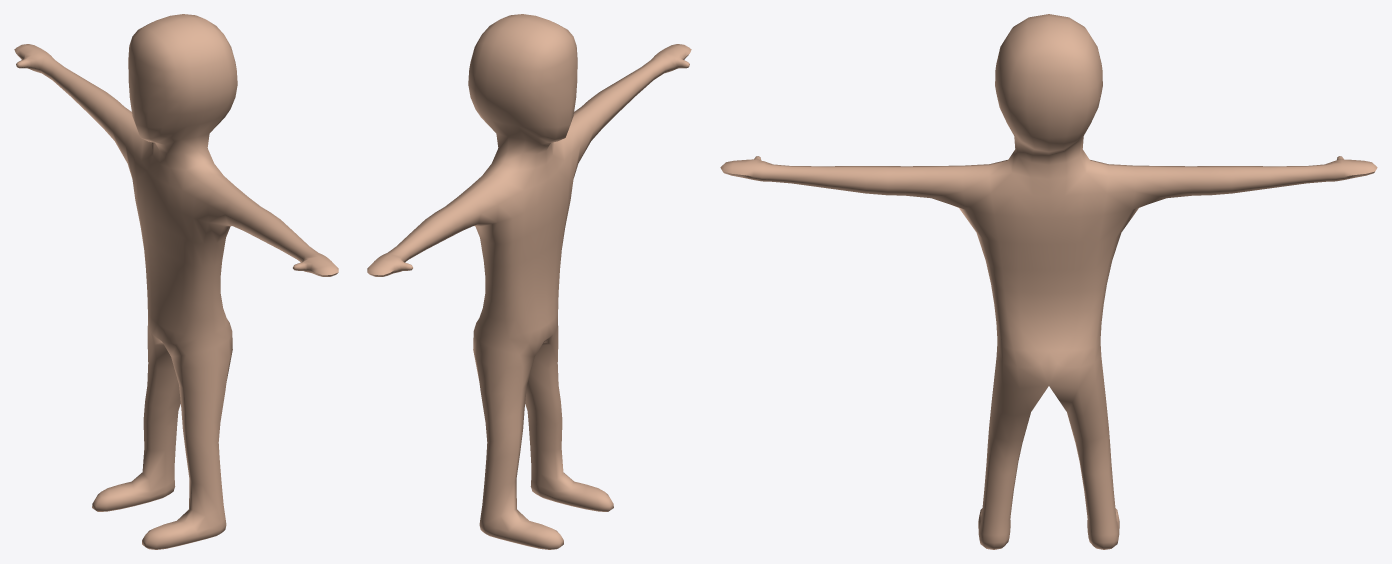
File: Character.fbx
The picture shows the model from 3 angles, left to right: view 1: azimuth 30°, elevation 25°; view 2: azimuth 150°, elevation 25°; view 3: azimuth 270°, elevation 25°; orthographic projection. The views are drawn at different scales.
Parts seen in each view (by area): view 1: Cube; view 2: Cube; view 3: Cube.
Part boxes in pixels (bbox=[...]): Cube: bbox=[14, 14, 338, 549]; Cube: bbox=[367, 14, 691, 549]; Cube: bbox=[720, 14, 1377, 549].
Bounding box in the file's own units: 251 × 1086 × 1239.
